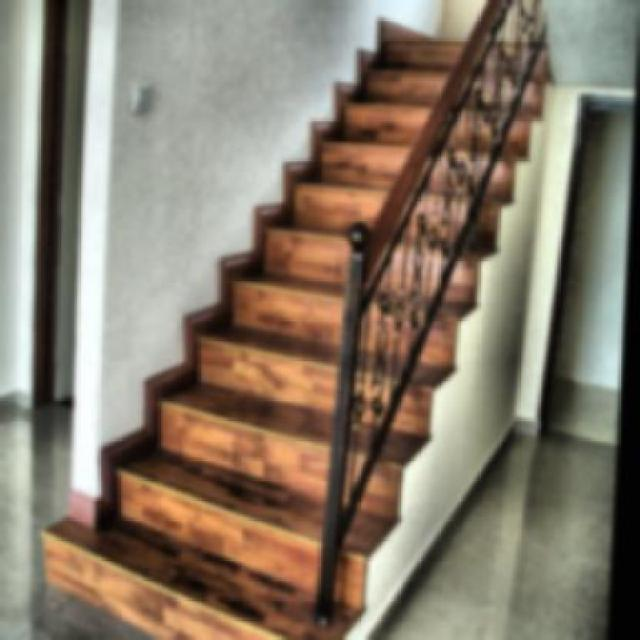stair: (36, 32, 507, 628)
